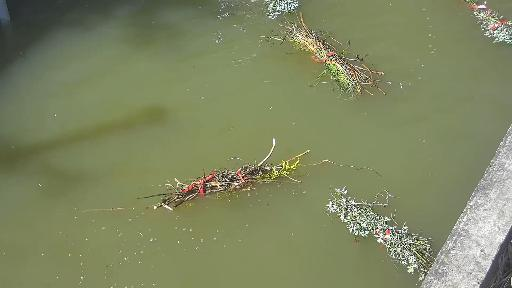twig: (142, 138, 393, 195), (267, 21, 395, 109), (324, 186, 432, 285), (463, 0, 512, 51), (234, 0, 305, 18)
